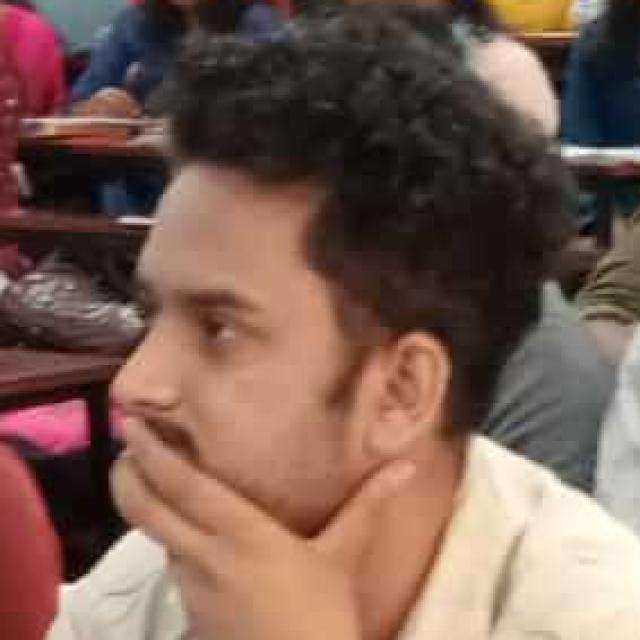Attentive: (103, 157, 360, 522)
